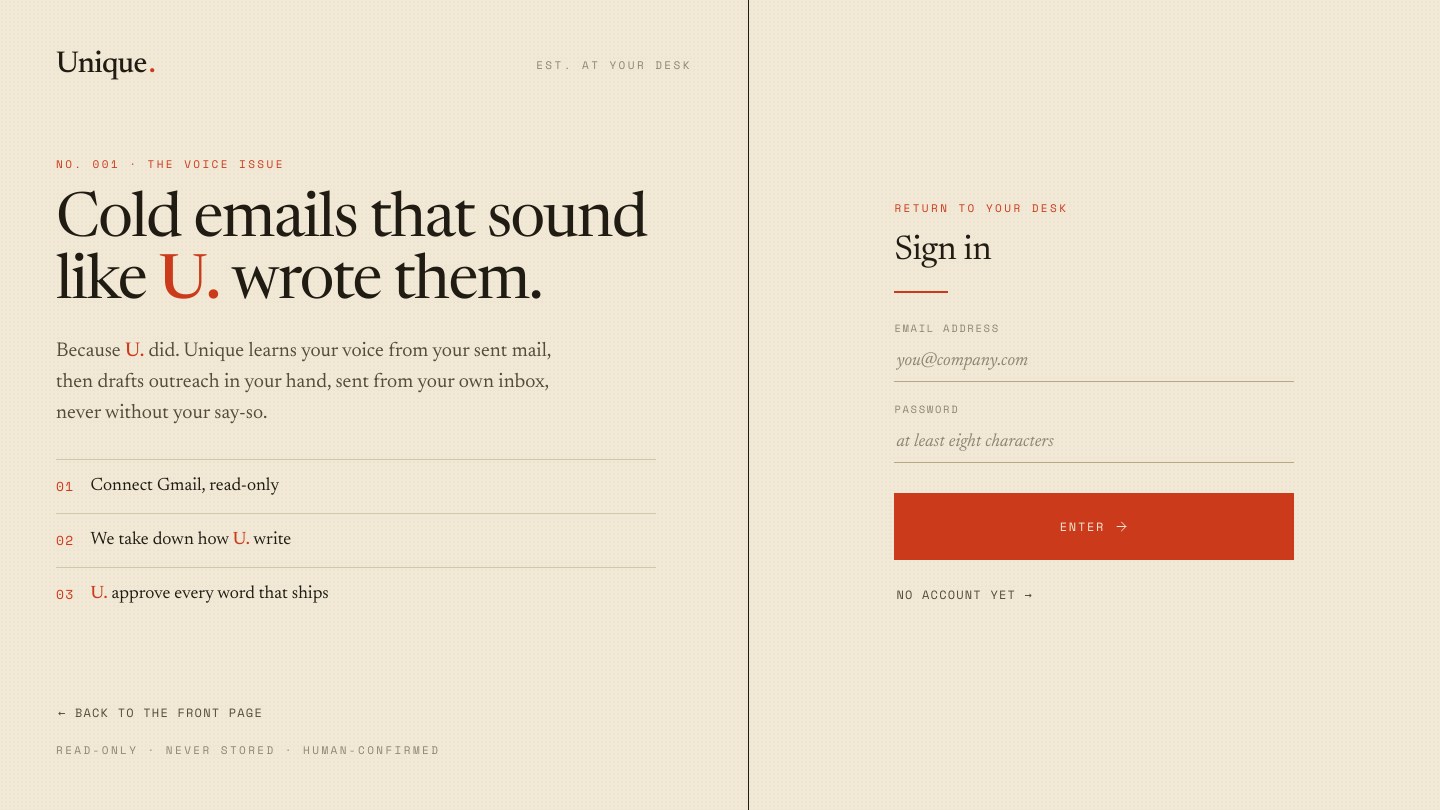
Test: AuthPage › surfaces an auth error
Type "ana@corp.com" into the field labelled "Email address".
click(1094, 362); type("ana@corp.com")  # box [894,342,1294,382]
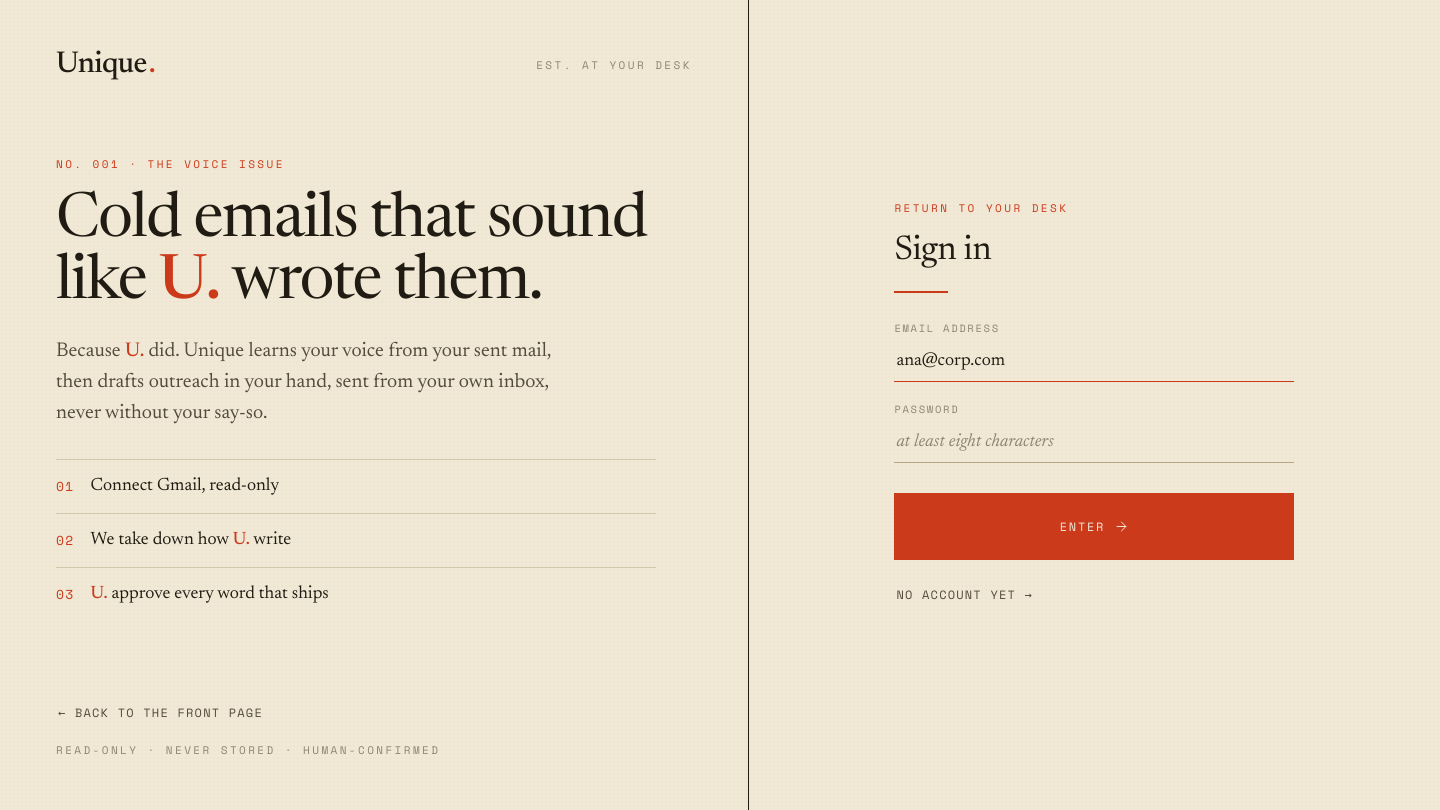
Type "correct-horse" into the password field labelled "Password".
click(1094, 443); type("correct-horse")  # box [894,423,1294,463]
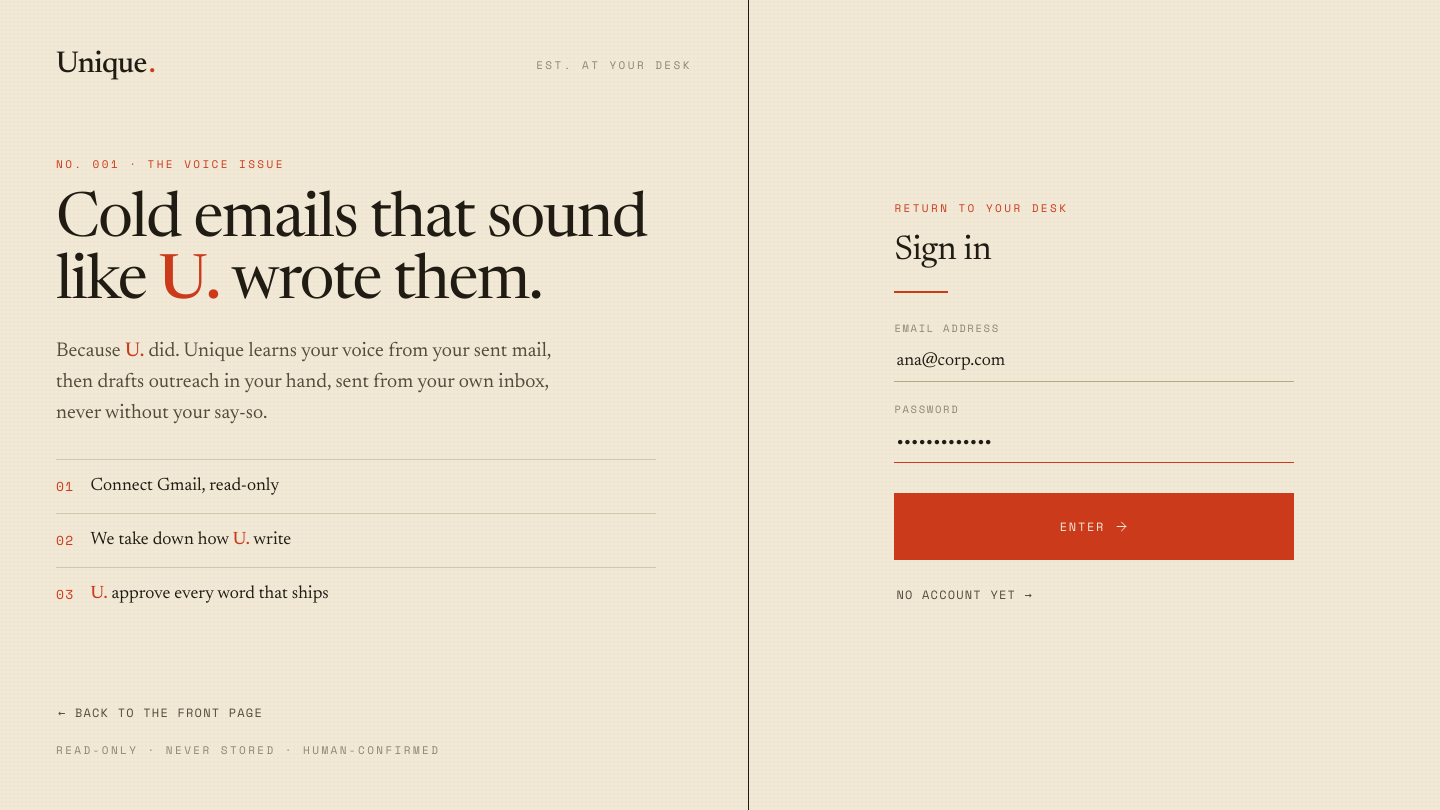
Click the button "Enter".
click(1094, 527)  # box [894,493,1294,560]
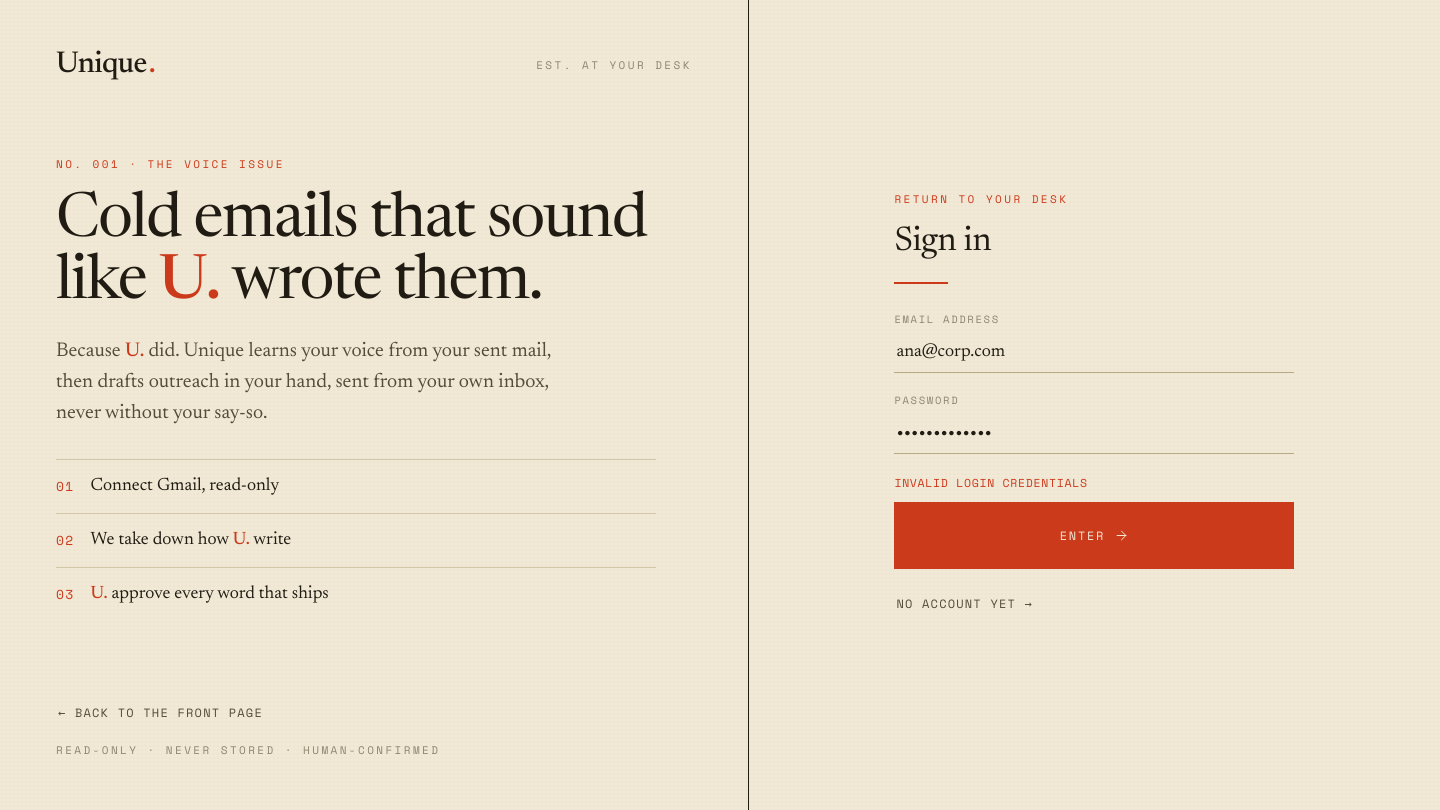
Expected: the message reads "Invalid login credentials", [894,474,1088,491]
